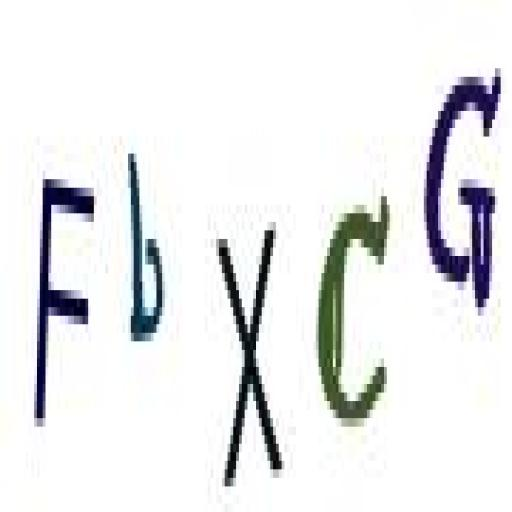F: (34, 162, 97, 447)
G: (424, 52, 510, 328)
X: (205, 216, 291, 511)
b: (121, 134, 169, 352)
c: (308, 181, 392, 446)
